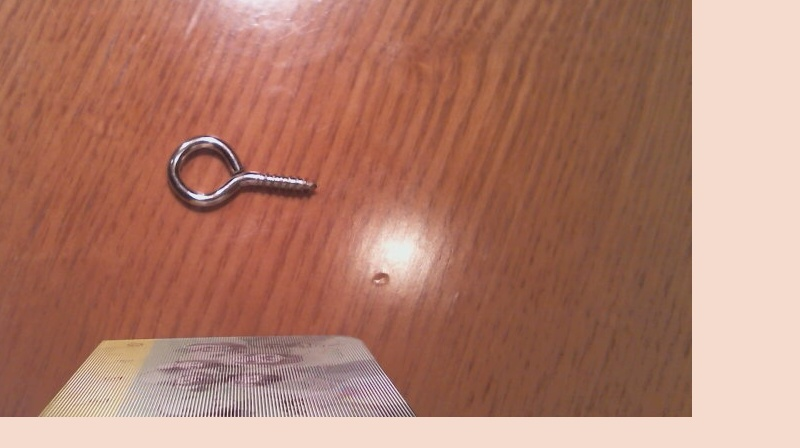O001: (161, 133, 320, 217)
